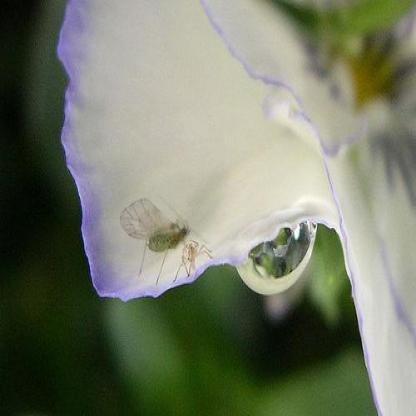aphid: (121, 188, 196, 283)
